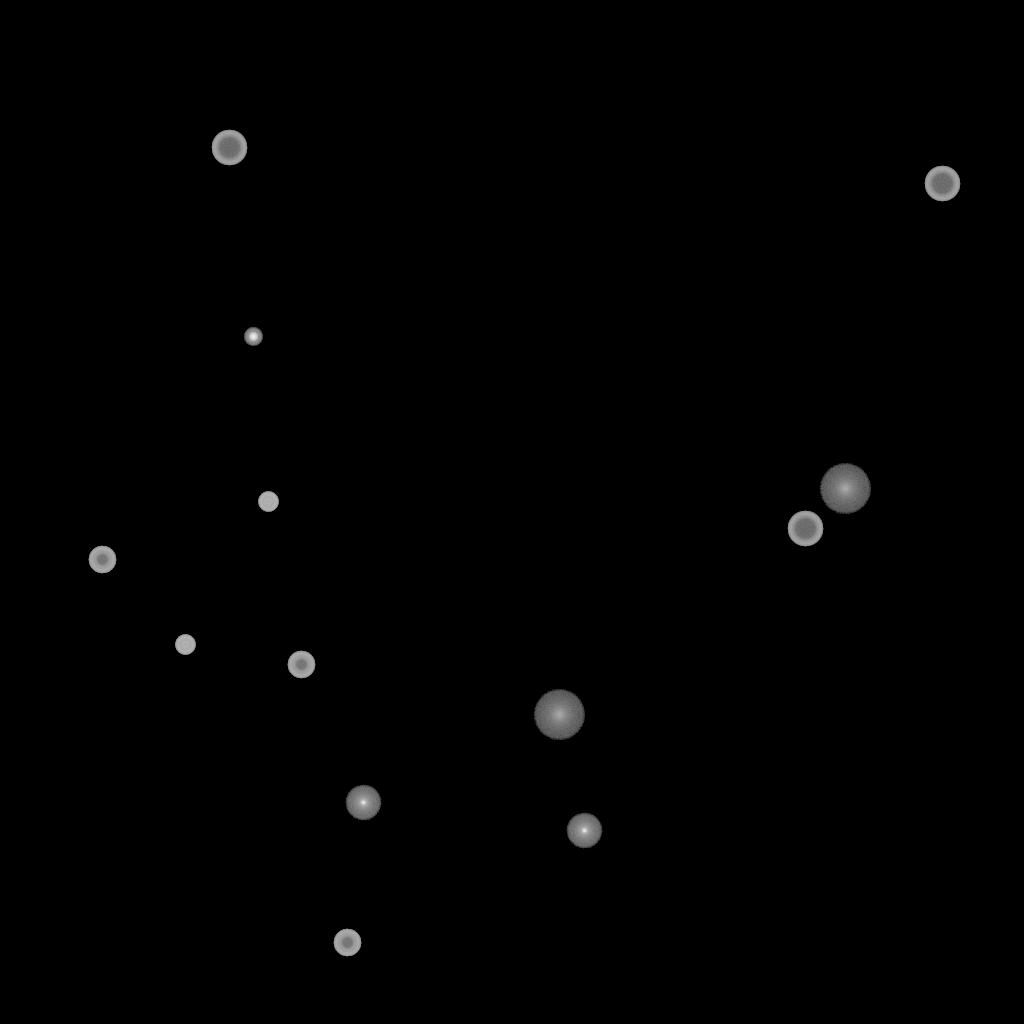depth:-20: (244, 328, 262, 346)
depth:-40: (258, 492, 278, 512), (175, 635, 195, 655)
depth:-50: (88, 546, 116, 574), (333, 929, 361, 957), (287, 651, 315, 679)
depth:-60: (211, 130, 247, 166), (924, 166, 960, 202), (787, 511, 823, 547)
depth:0: (566, 813, 602, 849), (345, 785, 381, 821)
depth:20: (819, 464, 871, 514), (533, 690, 585, 740)
